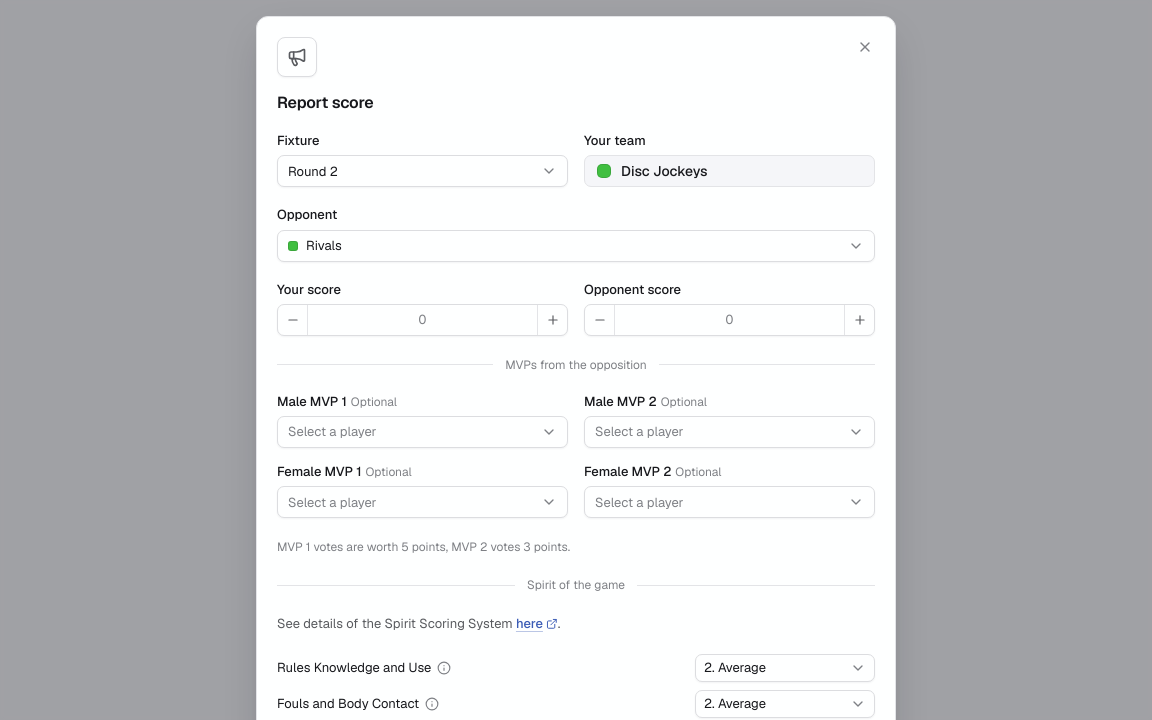
Test: ReportDialog (official scoring) › does not offer the same player for both female MVP slots
This screenshot has width=1152, height=720.
Check: the number field labelled "Your score" is shown, box 308,305 -> 537,335
Click the dropdown named "Female MVP 1".
click(332, 502)  # box 277,486 -> 568,518
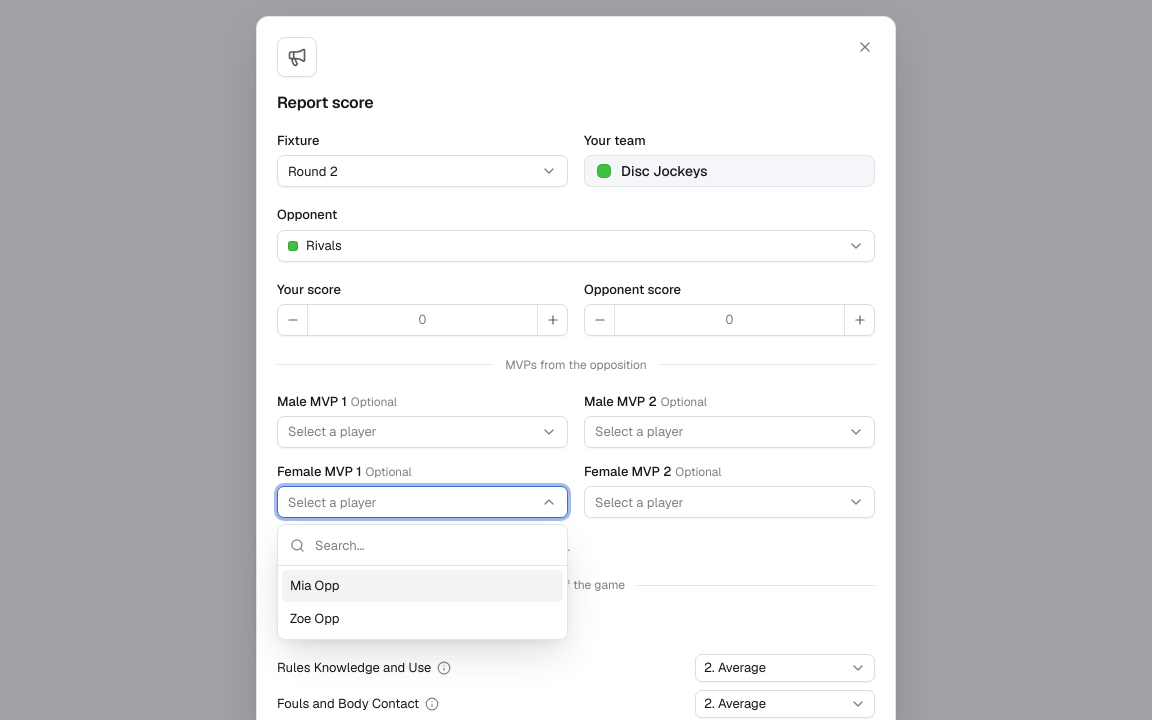
Click the option "Mia Opp".
click(315, 586)  # box 282,570 -> 563,602
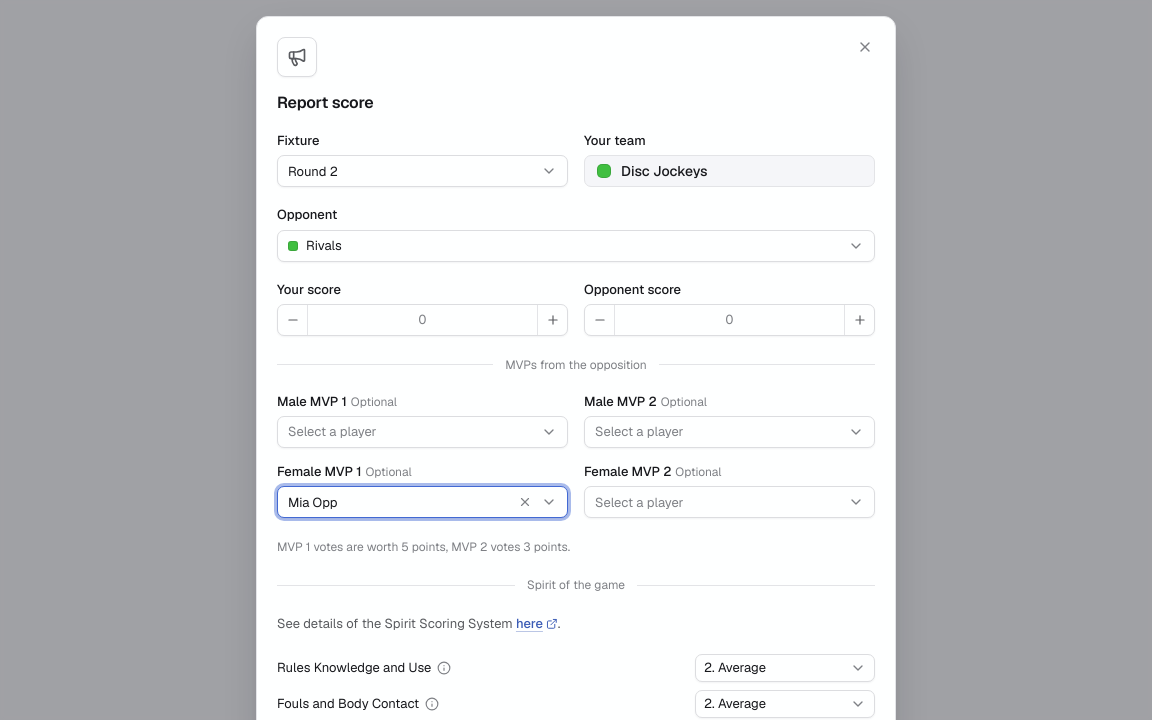
Click the dropdown named "Female MVP 2".
click(639, 502)  # box 584,486 -> 875,518
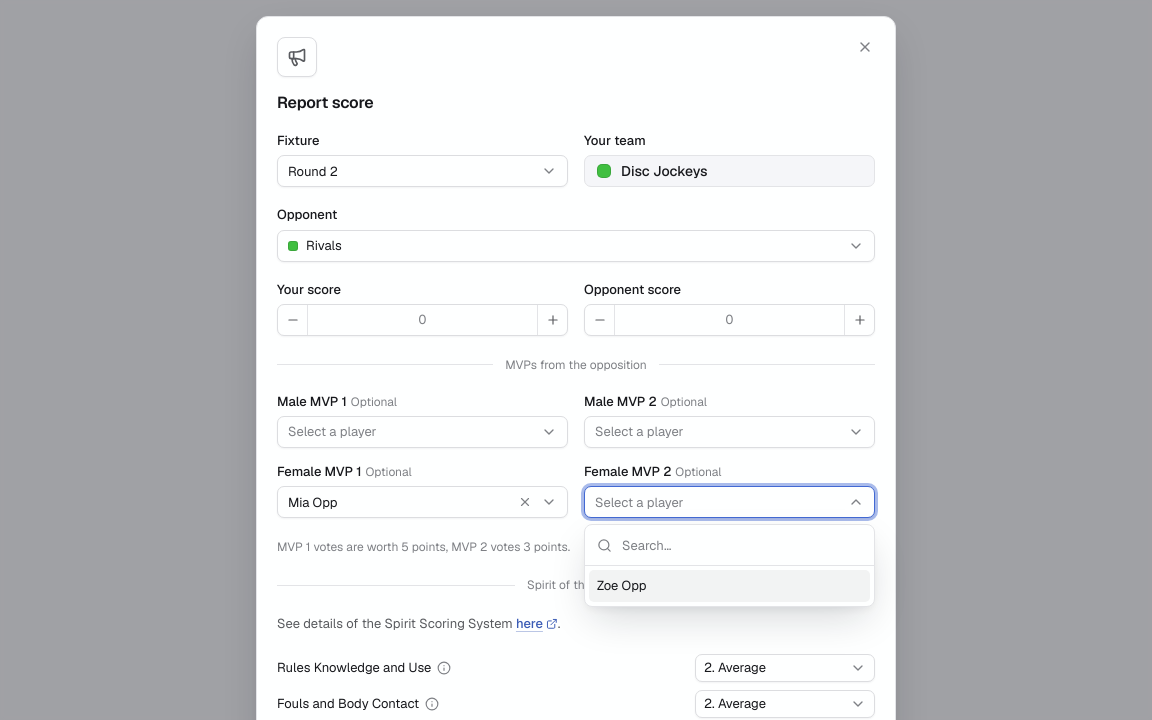
Check: the options read "Zoe Opp", in this order, box 589,570 -> 870,602
